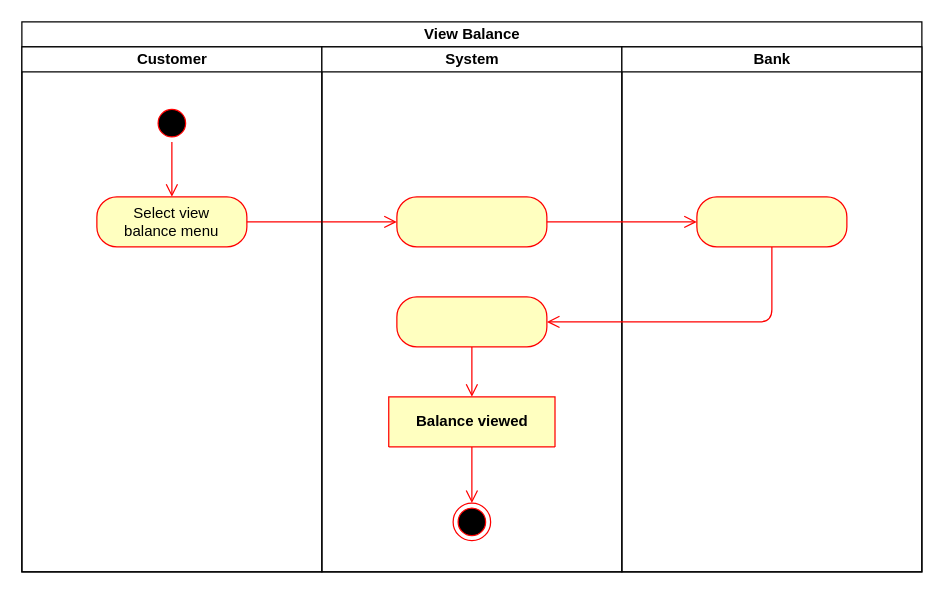
Image size: 944x594. Some labels were removed from this diagram. Here are the shapes that lost their labels. From the top down, the centre of each, then its label:
the point at 471,221: Request balance value
the point at 771,221: Return requested balance value
the point at 471,321: Display balance of linked bank account
